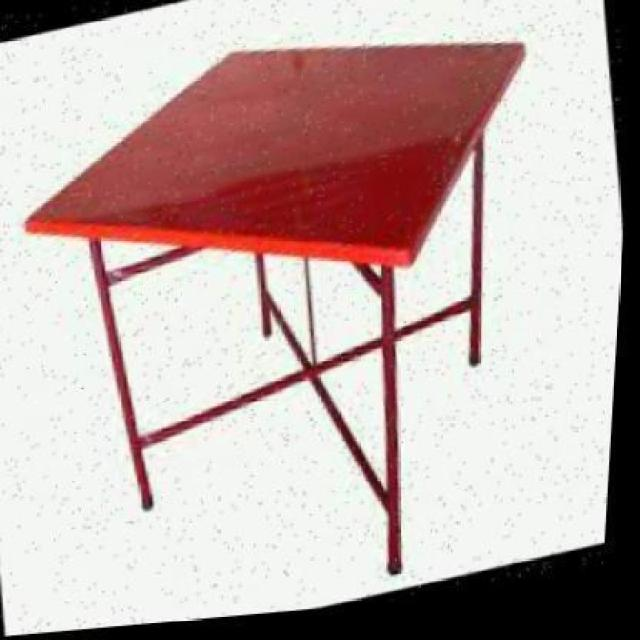tables: (22, 37, 526, 574)
